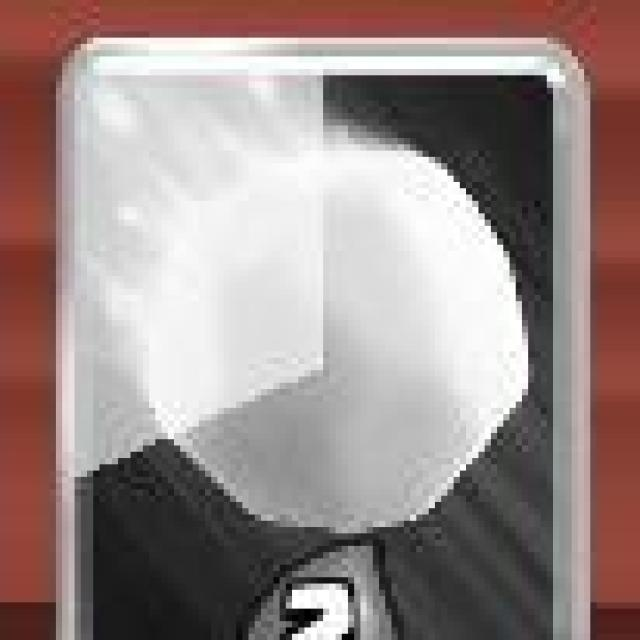Snowball: (60, 32, 593, 640)
